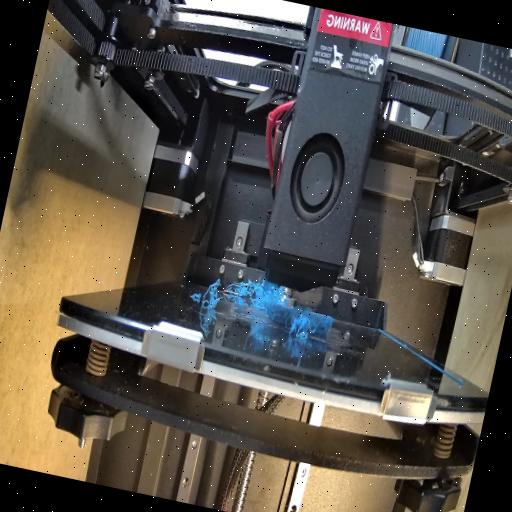spaghetti: (220, 272, 290, 314), (280, 298, 318, 347), (194, 275, 224, 314)
